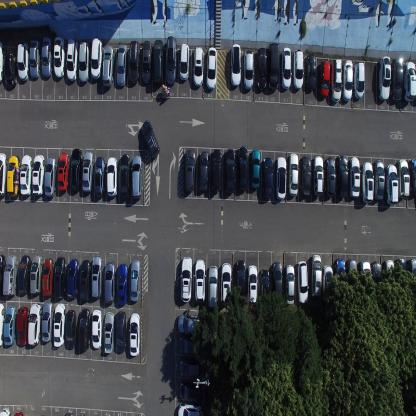car: (140, 118, 160, 159), (390, 57, 404, 102), (3, 253, 18, 295), (360, 160, 374, 204), (28, 302, 42, 346), (165, 35, 177, 85), (385, 162, 399, 204), (53, 256, 67, 298), (78, 307, 91, 352), (330, 58, 343, 103), (15, 306, 29, 347), (3, 305, 17, 346), (180, 255, 192, 302), (31, 153, 44, 196), (131, 153, 143, 199), (378, 56, 390, 102), (359, 258, 372, 300), (6, 154, 19, 196), (66, 257, 79, 299), (236, 145, 248, 190), (116, 261, 128, 306), (128, 312, 140, 357), (271, 260, 283, 305), (310, 253, 322, 298), (336, 153, 348, 198), (341, 57, 353, 102), (152, 38, 164, 83), (66, 37, 78, 82), (194, 258, 206, 302), (177, 313, 201, 335), (104, 260, 116, 304), (103, 311, 115, 355), (296, 260, 308, 304), (287, 152, 299, 196), (348, 155, 360, 199), (205, 46, 217, 90), (192, 44, 204, 88), (128, 39, 140, 83), (119, 152, 130, 200), (102, 44, 114, 88), (90, 36, 102, 80), (78, 40, 90, 84), (79, 258, 91, 302), (53, 302, 65, 346), (178, 336, 204, 356), (179, 358, 205, 378), (179, 380, 205, 400), (268, 43, 279, 90), (262, 156, 274, 199), (275, 156, 287, 199), (312, 154, 324, 197), (82, 150, 94, 193), (3, 50, 16, 89), (246, 264, 258, 306), (403, 60, 415, 102), (17, 41, 29, 83), (211, 147, 222, 192), (224, 148, 235, 193), (207, 264, 218, 309), (322, 263, 333, 308), (230, 43, 241, 88), (141, 40, 152, 85), (116, 42, 127, 87), (70, 147, 81, 192), (91, 255, 102, 300), (44, 158, 57, 196), (56, 151, 68, 192), (30, 253, 42, 294), (221, 261, 232, 305), (129, 258, 140, 302), (115, 310, 126, 354), (334, 258, 345, 302), (280, 46, 291, 90), (256, 47, 267, 91), (54, 36, 65, 80), (382, 258, 394, 298), (398, 158, 410, 198), (18, 254, 30, 294), (65, 310, 77, 350), (243, 49, 254, 92), (20, 153, 31, 196), (284, 264, 295, 306), (300, 154, 311, 196), (325, 156, 336, 198), (374, 158, 385, 200), (292, 48, 303, 90), (106, 156, 117, 198), (41, 36, 52, 78), (94, 156, 105, 198), (42, 301, 53, 343), (346, 258, 357, 299), (250, 149, 261, 190), (29, 38, 40, 79), (185, 147, 195, 192), (353, 61, 365, 98), (235, 259, 245, 303), (179, 42, 190, 82), (42, 258, 53, 298), (92, 308, 102, 350), (371, 260, 382, 298), (319, 59, 330, 97), (396, 256, 406, 295), (259, 269, 270, 304), (406, 257, 416, 295), (199, 150, 208, 192), (306, 52, 315, 90), (178, 402, 202, 416), (408, 157, 416, 199), (0, 152, 7, 197), (0, 253, 6, 296), (0, 303, 4, 348), (0, 39, 4, 83), (0, 406, 12, 415), (13, 408, 24, 415), (63, 409, 75, 415)
